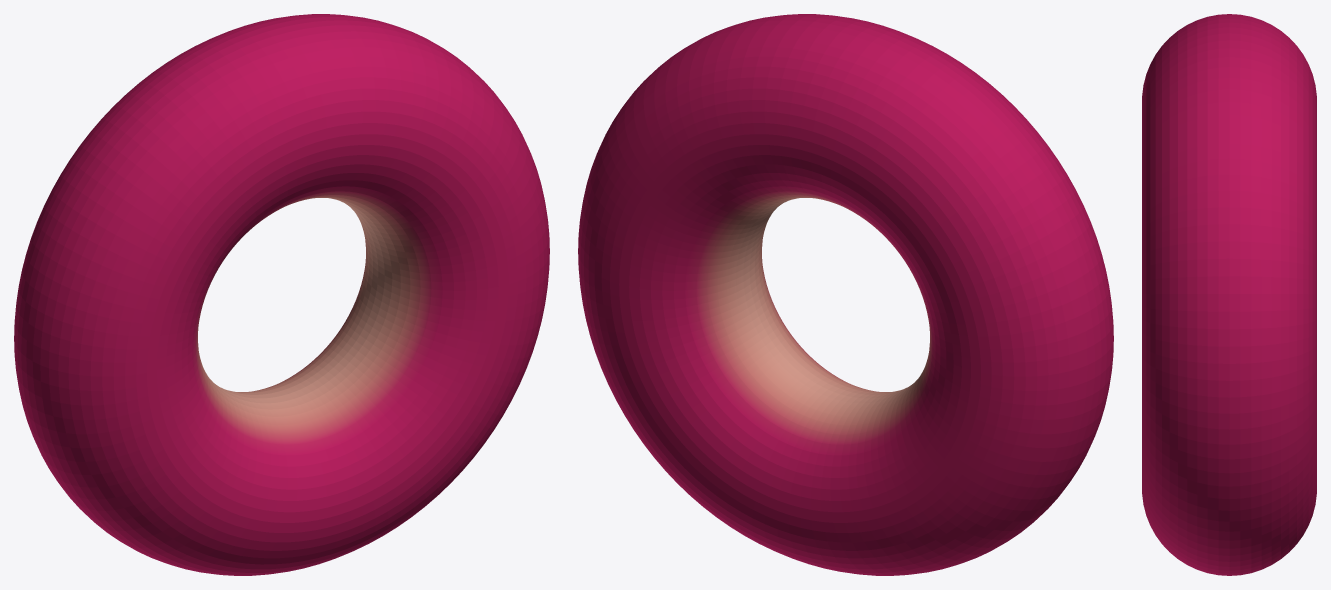
The picture shows the model from 3 angles, left to right: view 1: azimuth 30°, elevation 25°; view 2: azimuth 150°, elevation 25°; view 3: azimuth 270°, elevation 25°; orthographic projection. The views are drawn at different scales.
Visible parts, largest first — view 1: world; view 2: world; view 3: world.
Part boxes in pixels (box(x1,y1,x2,y2)): world: box(14, 14, 549, 575); world: box(578, 14, 1113, 575); world: box(1142, 14, 1316, 575).
Size of the model in its own units: 18.4 by 18.4 by 5.72.
